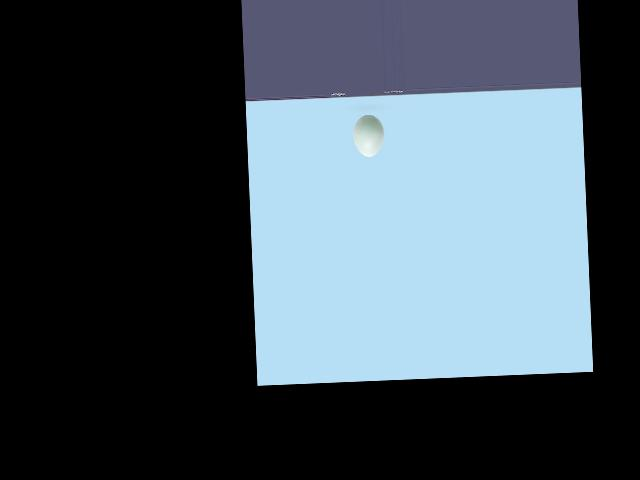egg: (352, 114, 385, 157)
